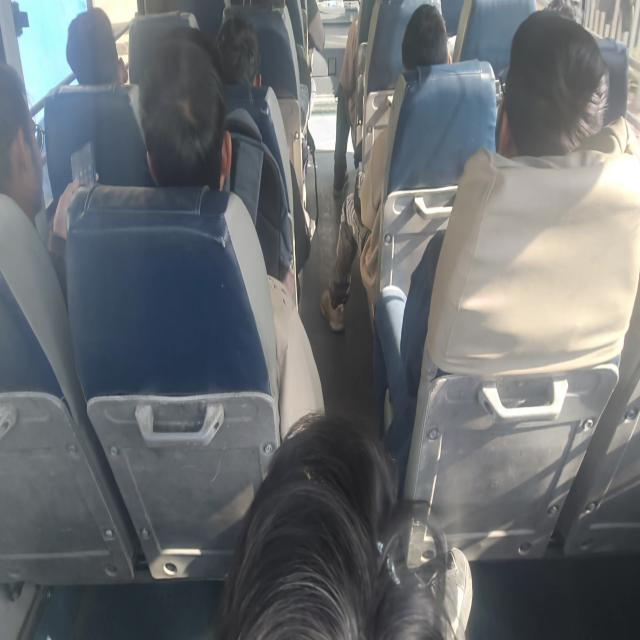person: (374, 9, 612, 486), (138, 25, 325, 440), (217, 410, 473, 638), (320, 3, 451, 332), (494, 9, 610, 158), (0, 61, 80, 256), (138, 26, 232, 190), (332, 16, 360, 197), (65, 7, 128, 85), (214, 14, 260, 87), (401, 3, 451, 69)
